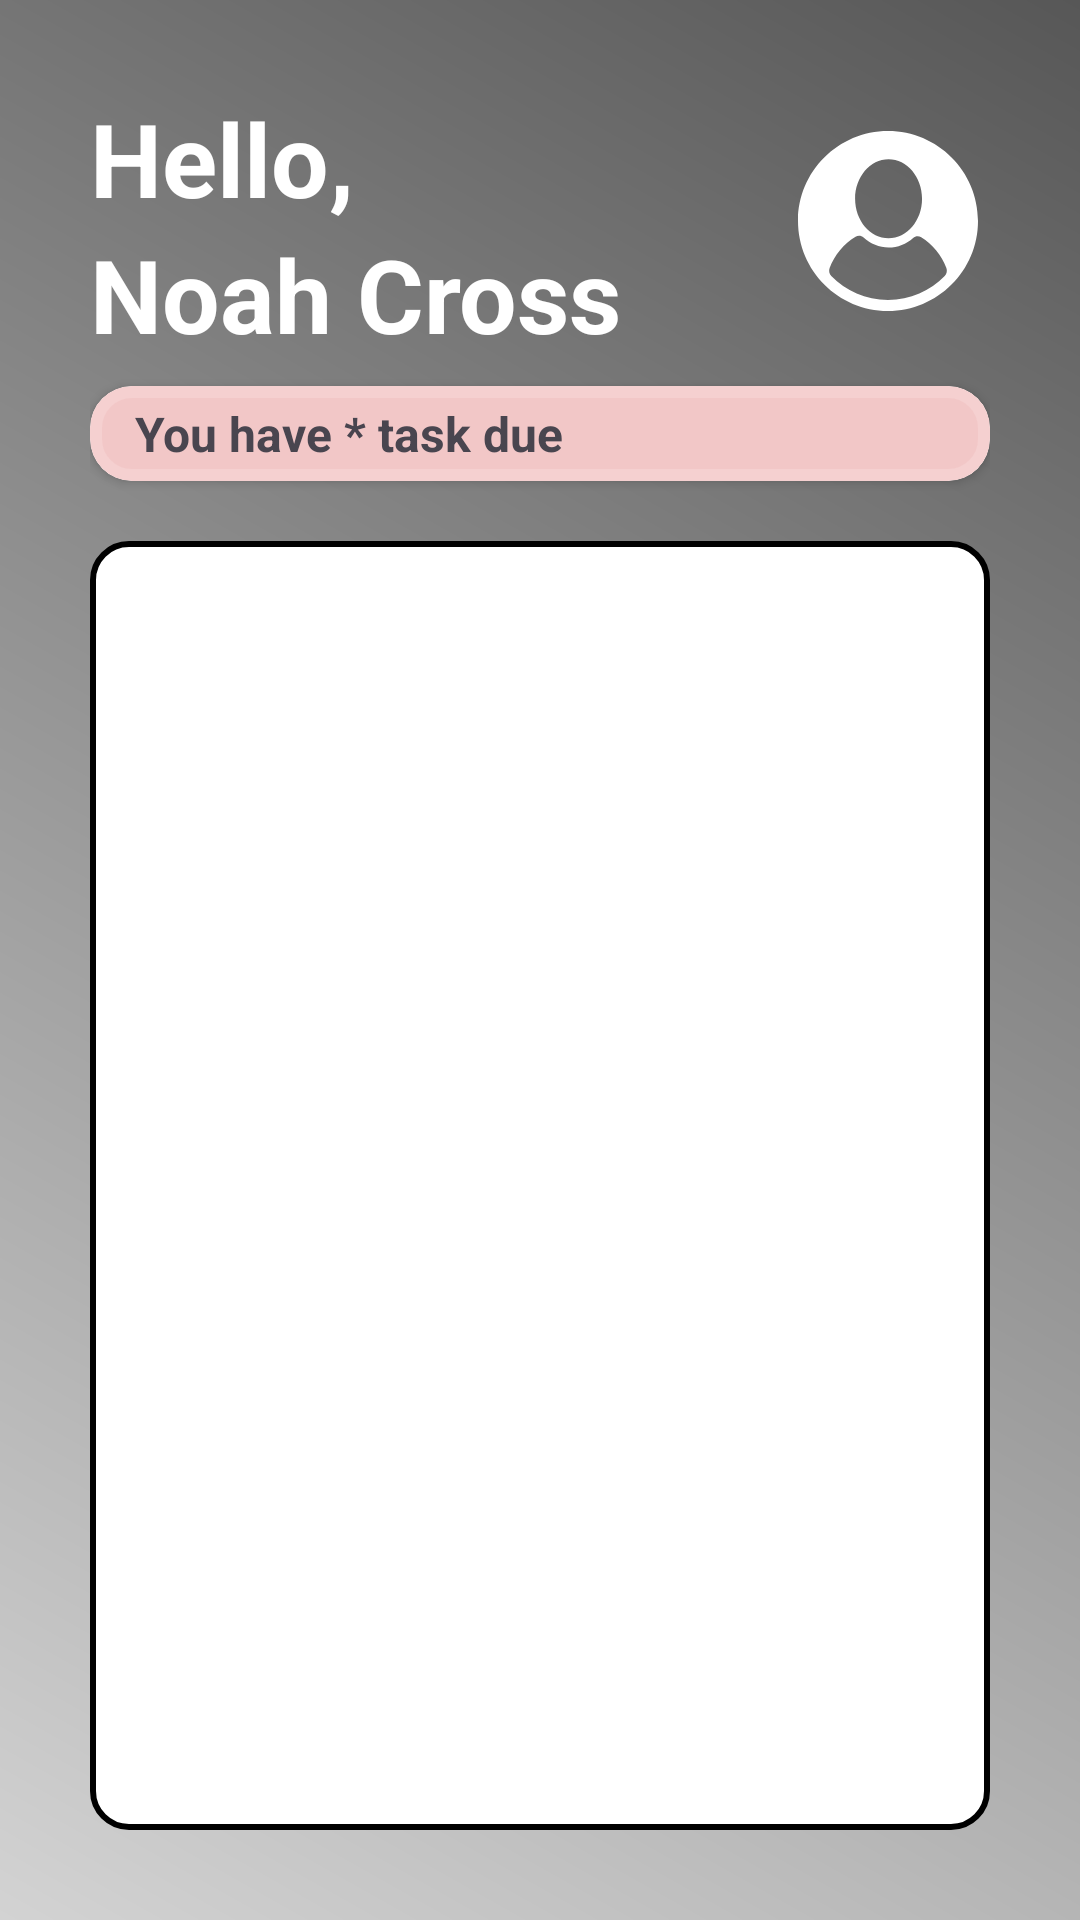

Where icons sit on this 1080 x 1920 app screen, as (x1, y1, x2, y2):
user circle: (798, 131, 978, 311)
